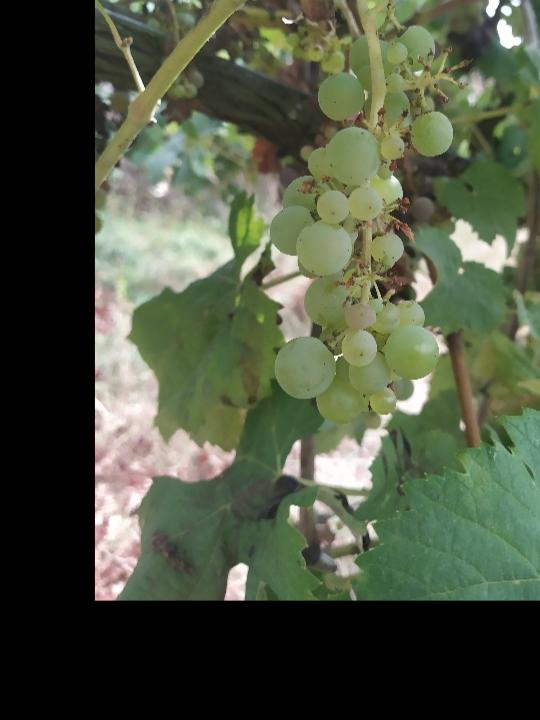grape: (266, 24, 456, 431)
